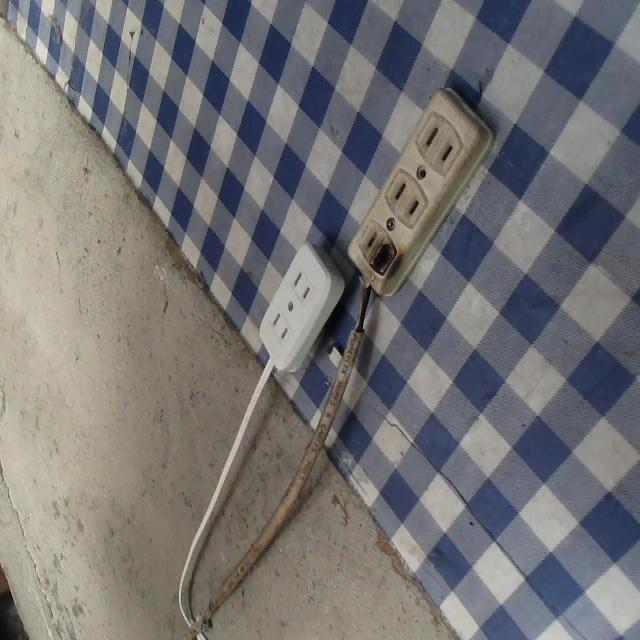-: (367, 236, 399, 283)
